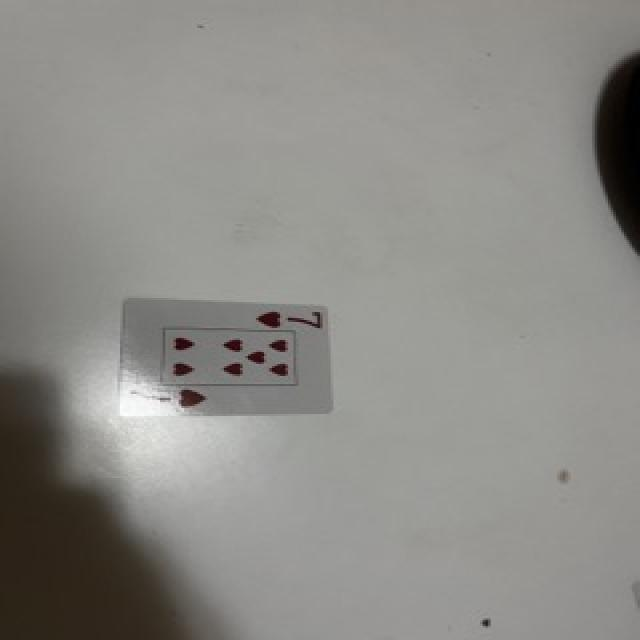7 of hearts: (121, 299, 330, 415)
